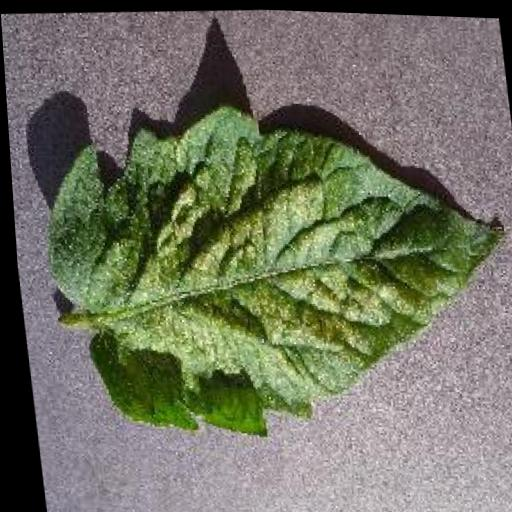Spider Mites: (29, 88, 512, 452)
